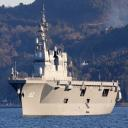Portanaves: (9, 1, 123, 120)
